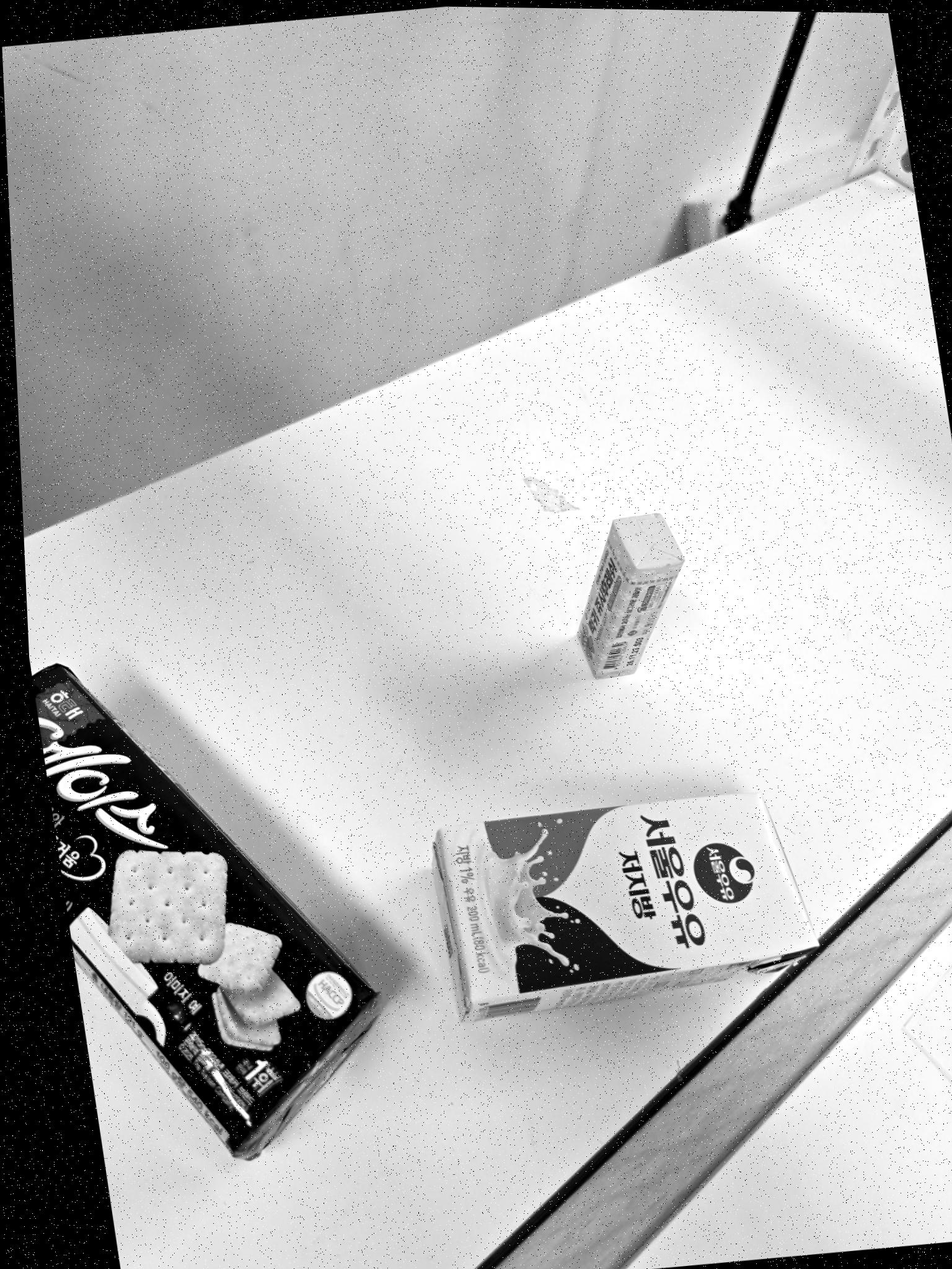cracker_ace: (32, 665, 380, 1158)
gum_yellow: (578, 514, 683, 678)
milk_blue: (433, 794, 816, 1021)
